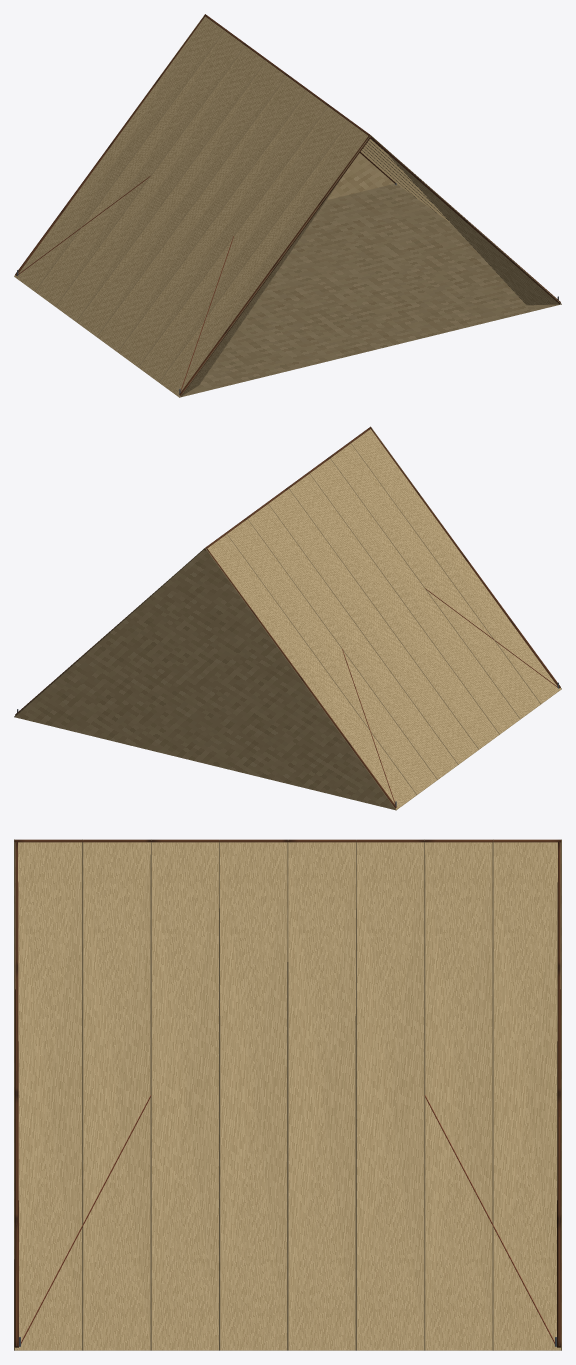
File: tent.obj
3 renders of one model, top to bottom at view 1: azimuth 30°, elevation 25°; view 2: azimuth 150°, elevation 25°; view 3: azimuth 270°, elevation 25°, orthographic. The views are drawn at different scales.
Parts seen in each view (by area): view 1: material_3, material_4, material_0; view 2: material_3, material_4, material_0; view 3: material_3, material_4, material_0, material_2.
Boxes of the visible parts, x1,y1,x2,y2 form: material_3: (14,16,560,397); material_4: (14,14,561,397); material_0: (15,14,560,396); material_3: (15,429,561,810); material_4: (14,426,561,810); material_0: (15,427,560,808); material_3: (15,842,560,1350); material_4: (14,839,561,1350); material_0: (14,839,561,1347); material_2: (21,1095,554,1343).
Bounding box in the file's own units: 128 × 69.28 × 96.19.
Materials: 5 (5 with a texture image).
